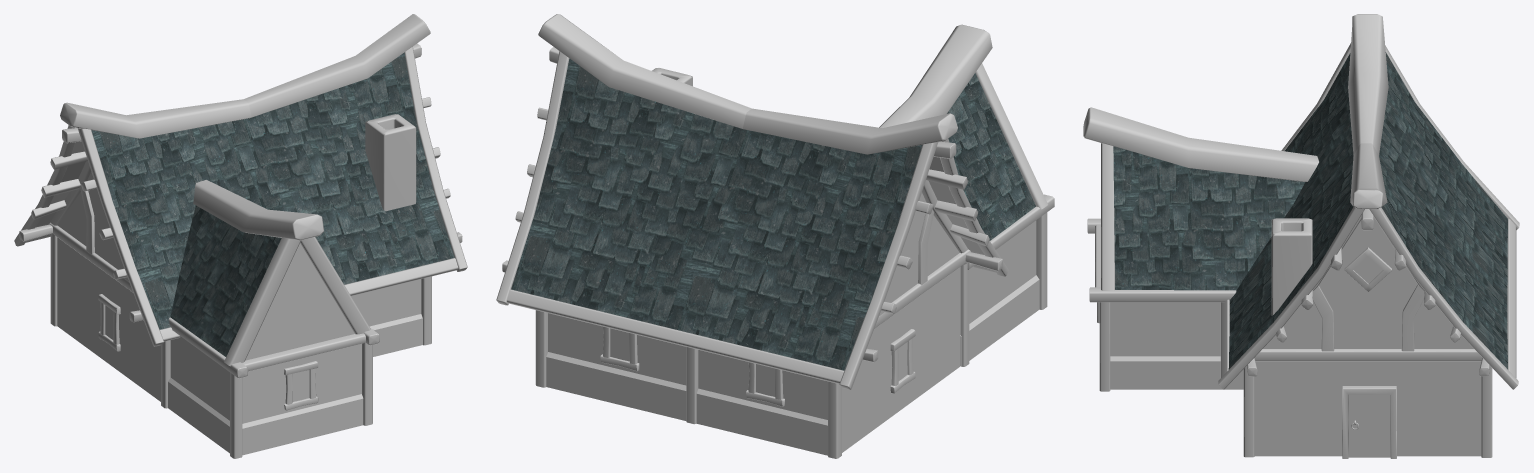
The model's file is house15.fbx.
The picture shows the model from 3 angles, left to right: view 1: azimuth 30°, elevation 25°; view 2: azimuth 150°, elevation 25°; view 3: azimuth 270°, elevation 25°; orthographic projection. The views are drawn at different scales.
Parts seen in each view (by area): view 1: house15; view 2: house15; view 3: house15.
Boxes of the visible parts, x1,y1,x2,y2 form: house15: [14, 14, 467, 458]; house15: [496, 14, 1054, 458]; house15: [1083, 14, 1519, 458].
Bounding box in the file's own units: 1318 × 949 × 1293.
